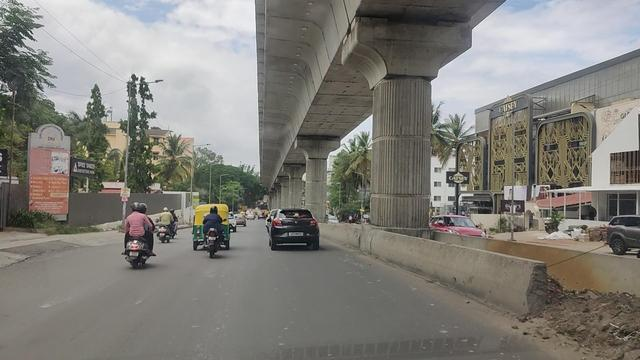LMV: (266, 207, 321, 253), (127, 199, 155, 272), (207, 205, 224, 254)
